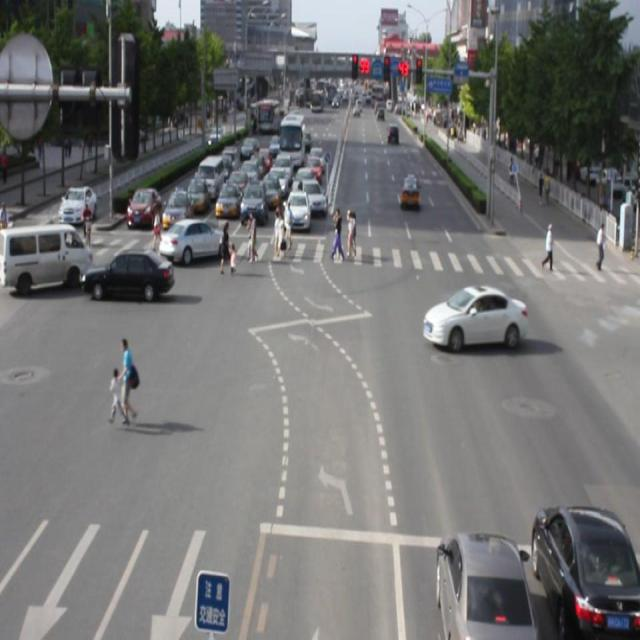car: (523, 495, 640, 640), (429, 524, 530, 640), (422, 280, 526, 350), (84, 249, 173, 301), (162, 218, 231, 264)
